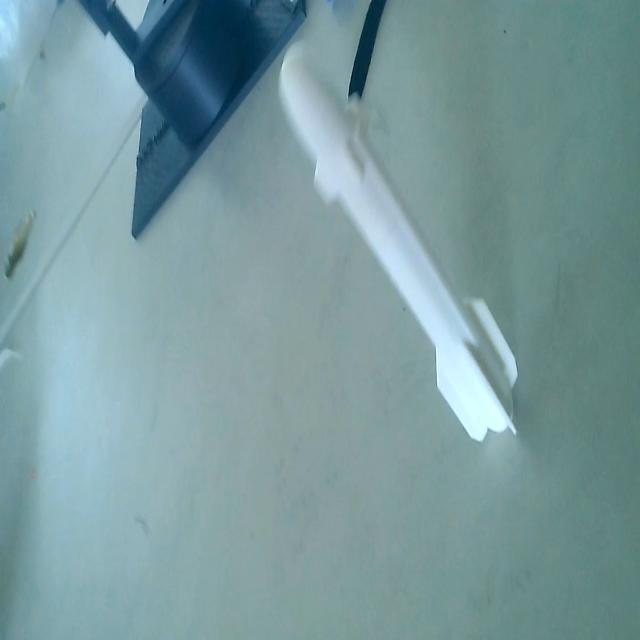Rocket: (280, 39, 521, 442)
